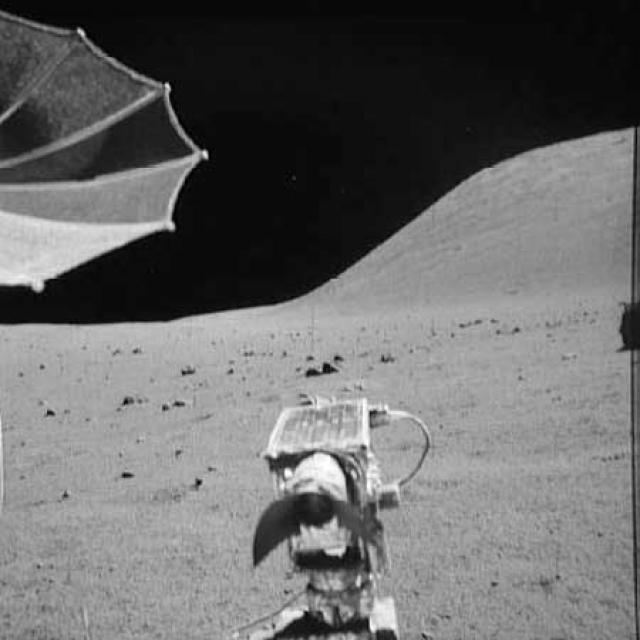artifact: (0, 8, 215, 298), (244, 377, 456, 638)
rock: (298, 356, 345, 376), (162, 393, 191, 414), (120, 383, 142, 409)
